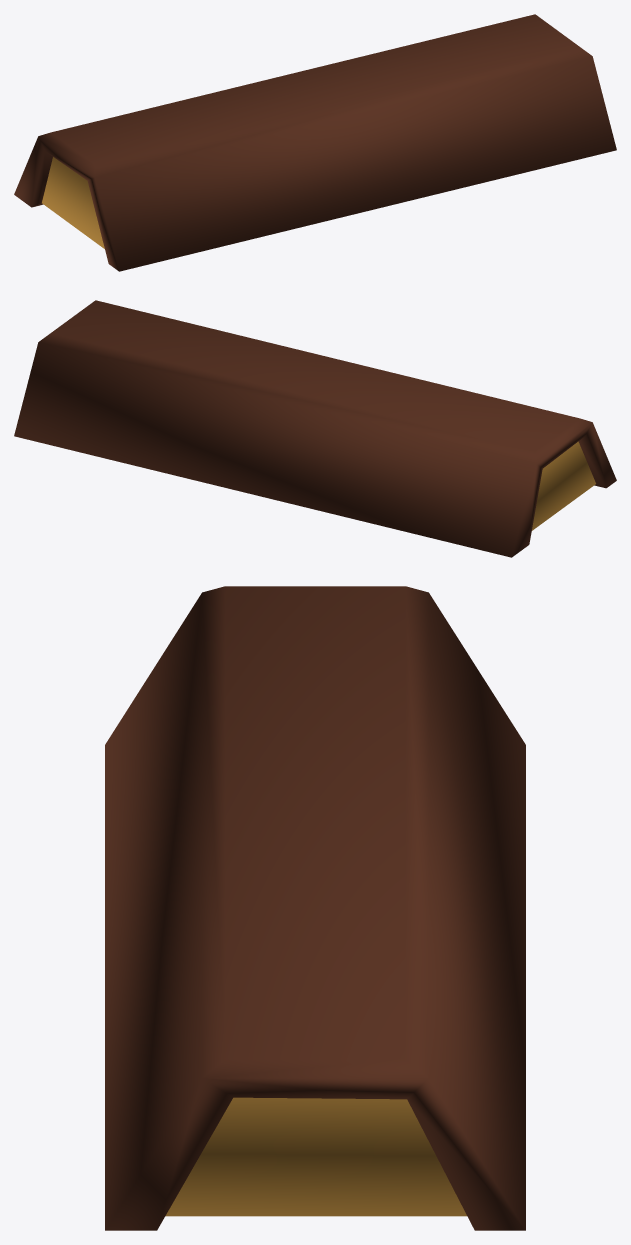
File: log2.fbx
3 renders of one model, top to bottom at view 1: azimuth 30°, elevation 25°; view 2: azimuth 150°, elevation 25°; view 3: azimuth 270°, elevation 25°, orthographic. The views are drawn at different scales.
Visible parts, largest first — view 1: log2; view 2: log2; view 3: log2.
Boxes of the visible parts, bbox=[...] form: log2: bbox=[14, 14, 616, 271]; log2: bbox=[14, 300, 616, 557]; log2: bbox=[105, 586, 525, 1230].
Bounding box in the file's own units: 111 × 17.6 × 40.65.
